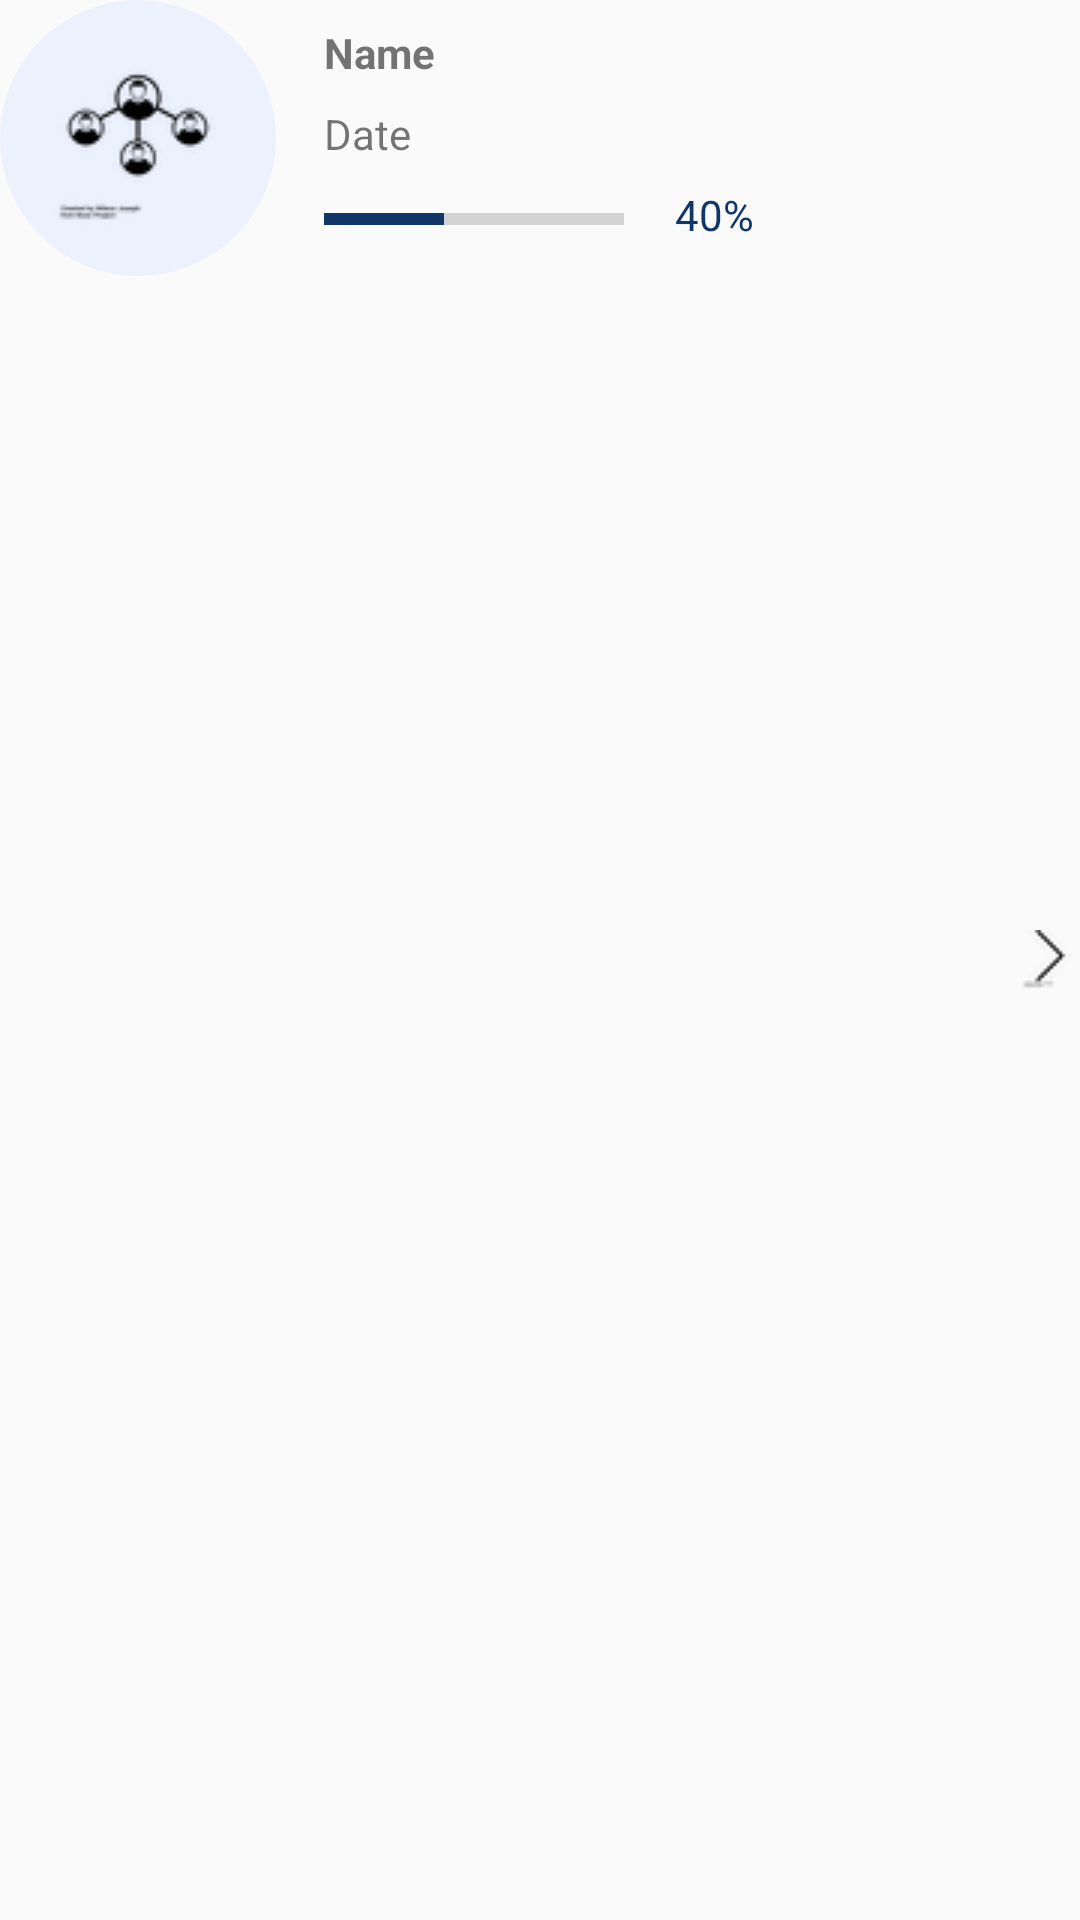

Where icons sit on this 1080 × 1920 app screen, as [x1=x1, y1=y1, x2=x2, y2=y2]:
arrow: [x1=1024, y1=930, x2=1066, y2=987]
network: [x1=0, y1=0, x2=276, y2=276]
